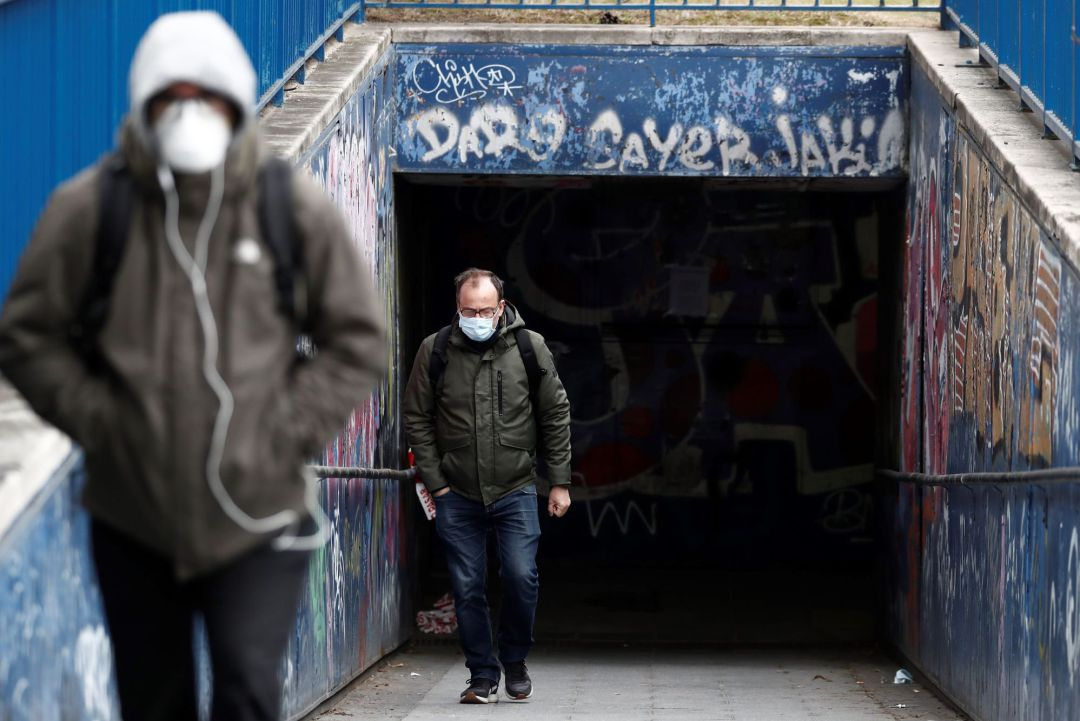with_mask: (120, 43, 258, 178), (442, 260, 528, 342)
